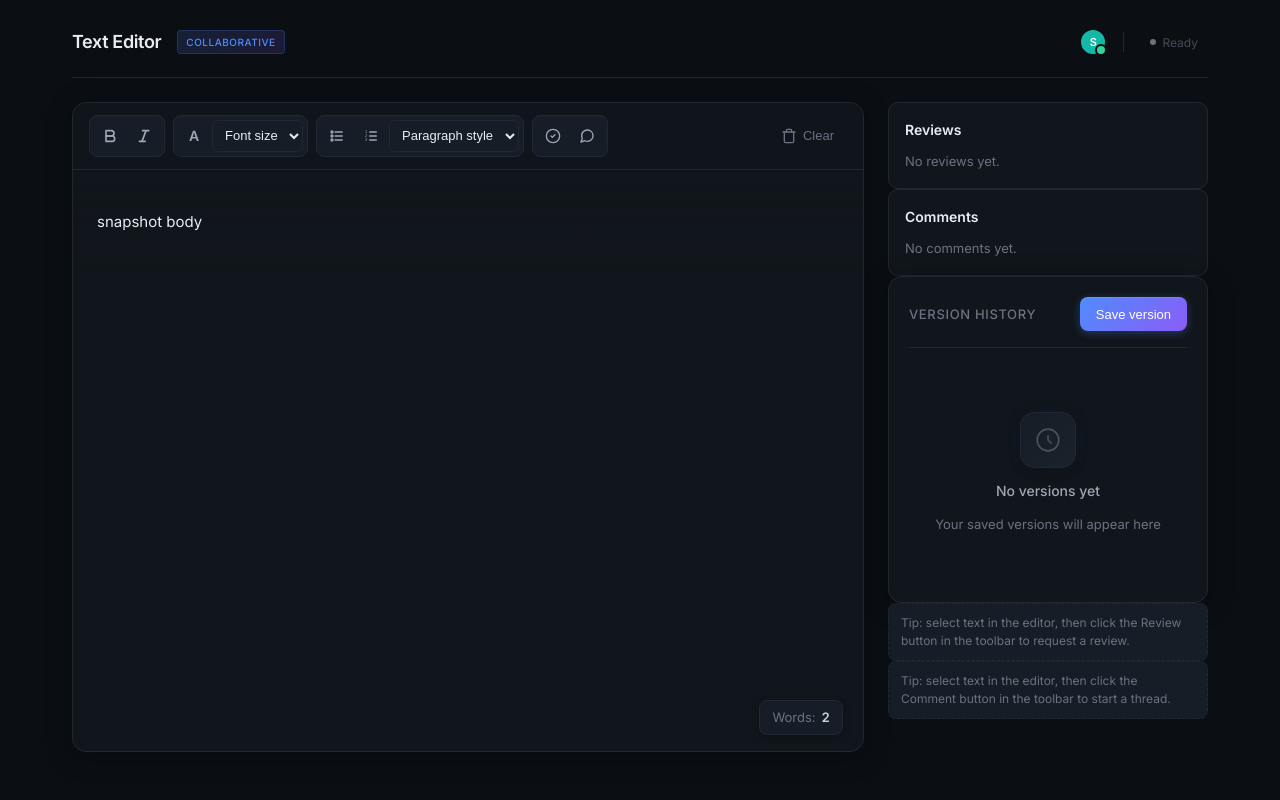
Scenario: App — Requirement 7: version history end-to-end › saves the current editor content as a named version that appears in the list
Click the button "Save version" at [1133, 314], box [1080, 297, 1187, 331]
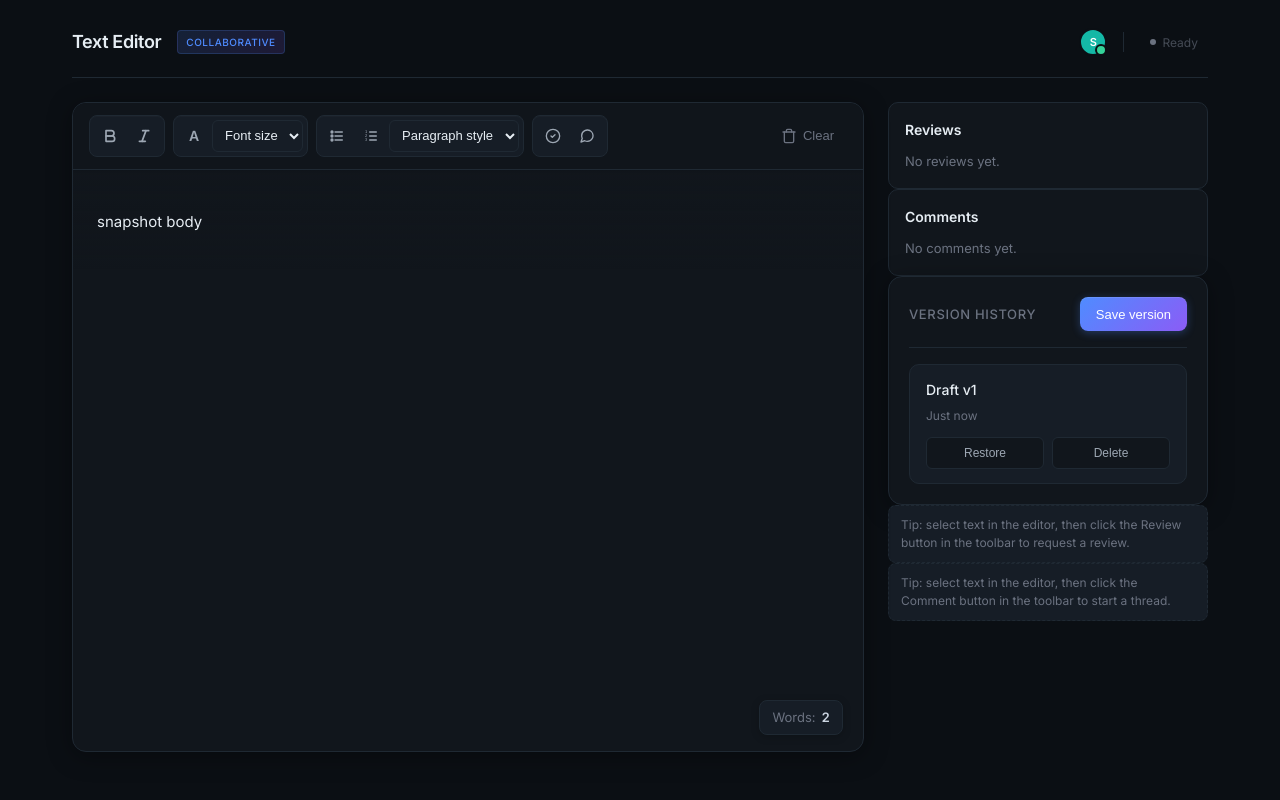
Expected: the text "Draft v1" is shown, [926, 381, 977, 398]
